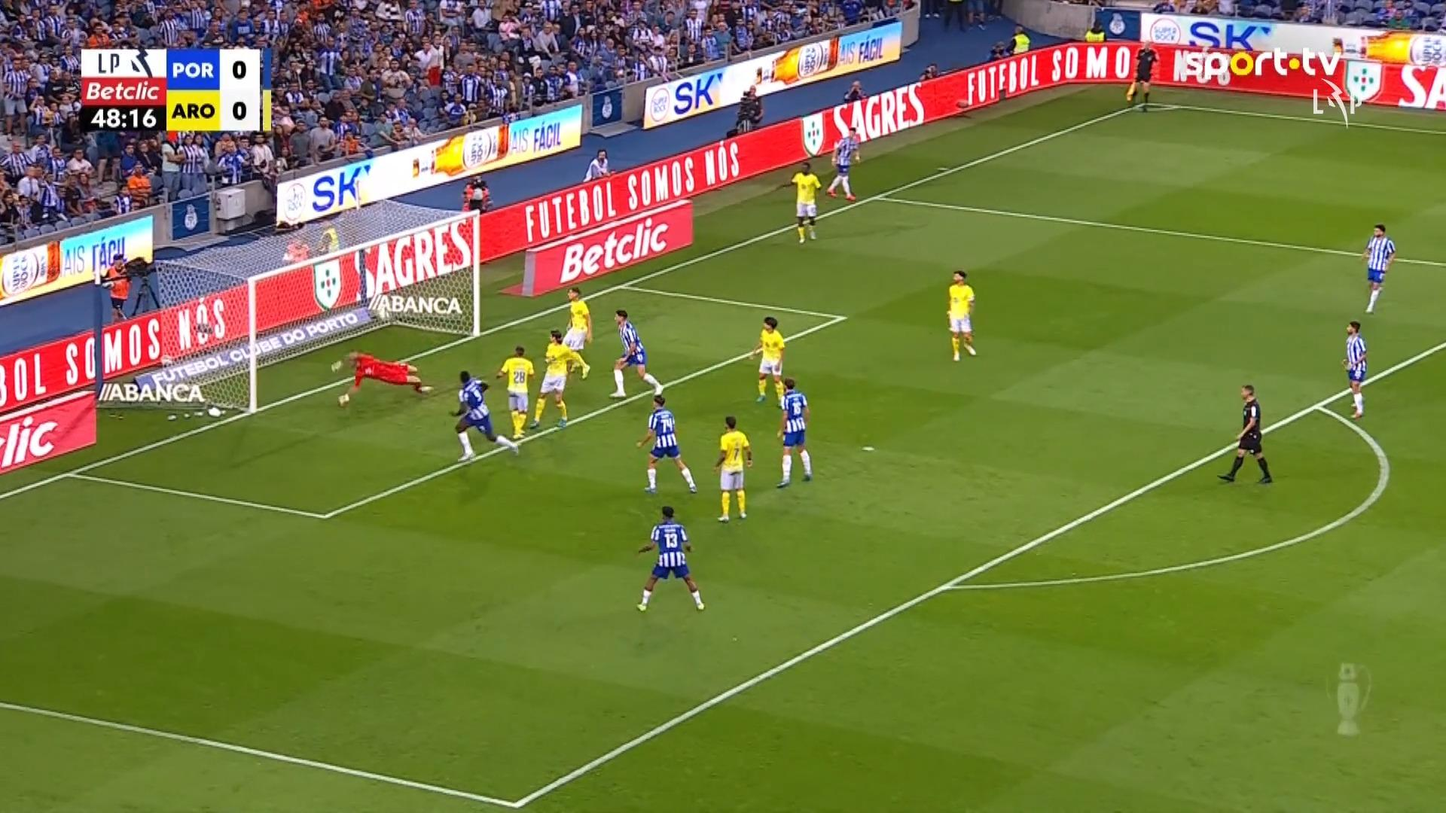goalkeeper: (330, 349, 432, 409)
player: (635, 504, 706, 612), (449, 370, 520, 461), (528, 328, 590, 430), (635, 394, 697, 494), (608, 309, 664, 398), (774, 376, 813, 488), (712, 415, 752, 522), (495, 345, 535, 440), (777, 160, 822, 244), (747, 315, 786, 407), (1361, 223, 1396, 314), (560, 285, 593, 379), (945, 269, 978, 361), (825, 126, 861, 202), (1341, 319, 1368, 418)
referee: (1217, 383, 1273, 483), (1124, 40, 1160, 111)
